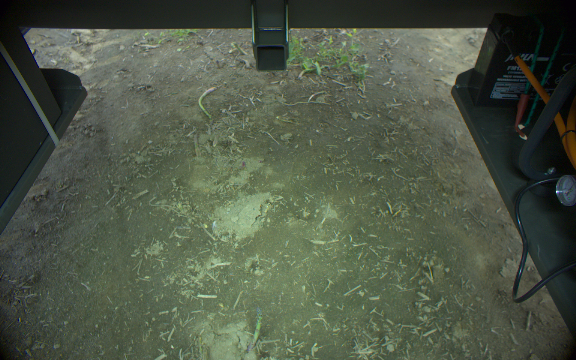aspa: (247, 307, 264, 352), (198, 85, 216, 121), (231, 42, 249, 57)
